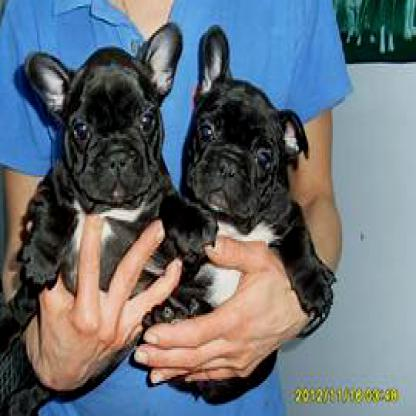dog: (0, 25, 210, 414), (180, 21, 339, 319)
